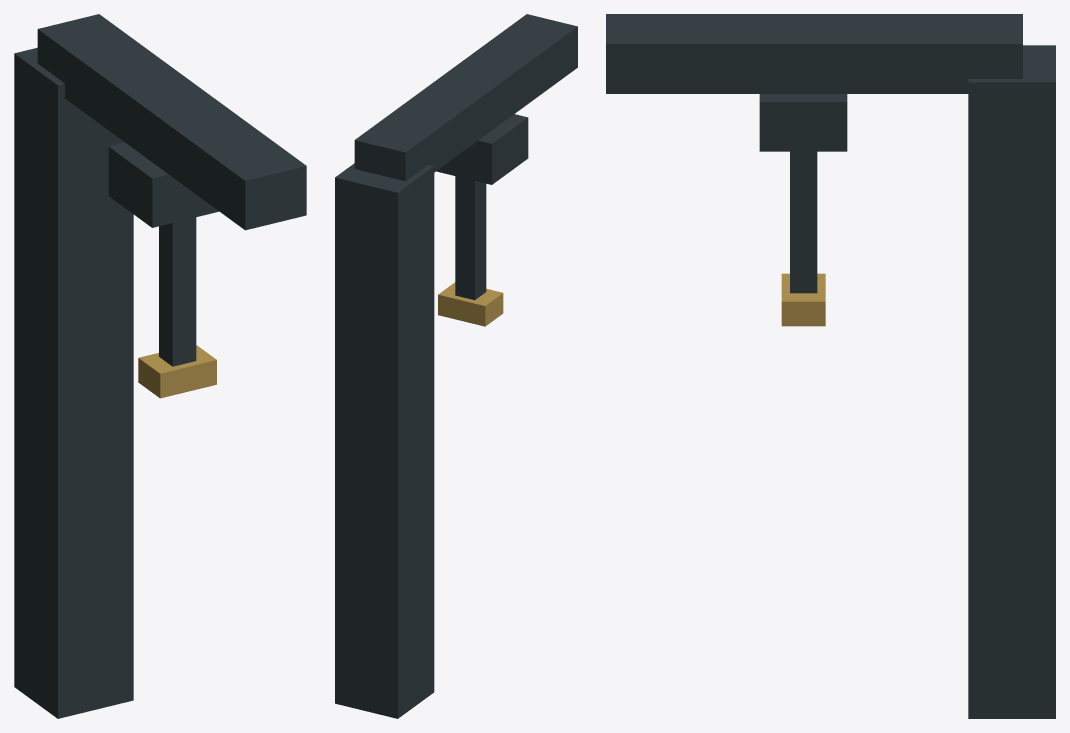
File: hookup-crane-lod1.492770426b96.glb
3 views of the same model, side by side, from view 1: azimuth 30°, elevation 25°; view 2: azimuth 150°, elevation 25°; view 3: azimuth 270°, elevation 25° (orthographic). The views are drawn at different scales.
Visible parts, largest first — view 1: body, trolley; view 2: body, trolley; view 3: body, trolley.
Boxes of the visible parts, x1,y1,x2,y2 form: body: [14, 14, 306, 718]; trolley: [108, 142, 218, 398]; body: [335, 14, 577, 718]; trolley: [436, 114, 528, 326]; body: [606, 14, 1055, 718]; trolley: [759, 94, 847, 326].
Size of the model in its own units: 0.2 by 1.35 by 0.82.
